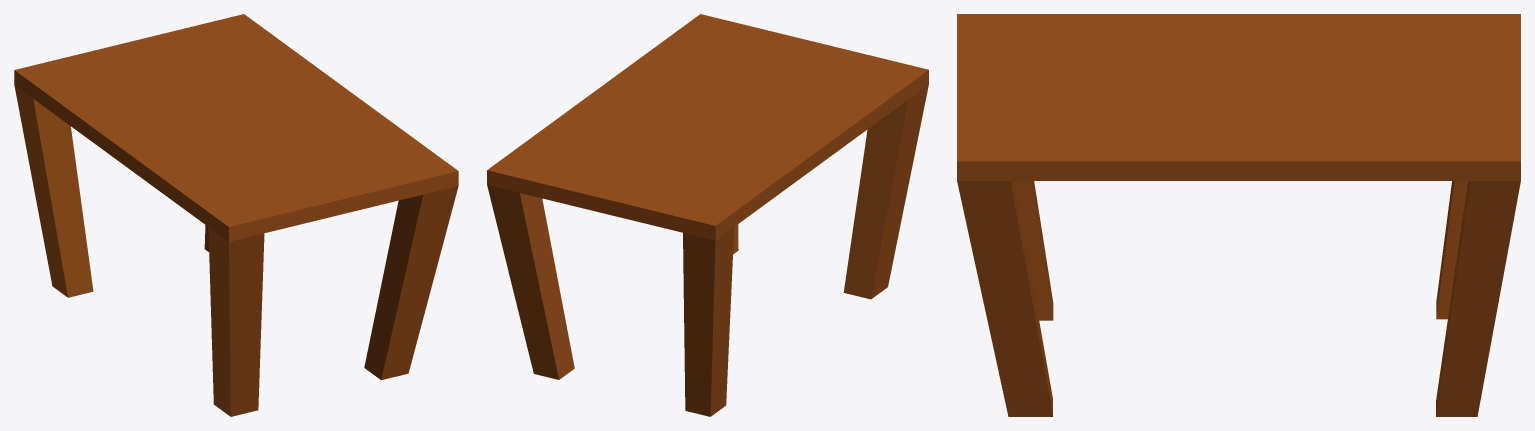
File: Table.dae
3 renders of one model, left to right at view 1: azimuth 30°, elevation 25°; view 2: azimuth 150°, elevation 25°; view 3: azimuth 270°, elevation 25°, orthographic. The views are drawn at different scales.
Visible parts, largest first — view 1: Table; view 2: Table; view 3: Table.
Boxes of the visible parts, x1=… form: Table: x1=14, y1=14, x2=458, y2=416; Table: x1=487, y1=14, x2=928, y2=416; Table: x1=957, y1=14, x2=1520, y2=416.
Size of the model in its own units: 65.99 by 107 by 57.5.
